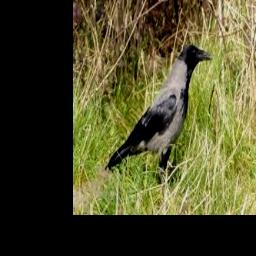Crow: (105, 45, 213, 183)
